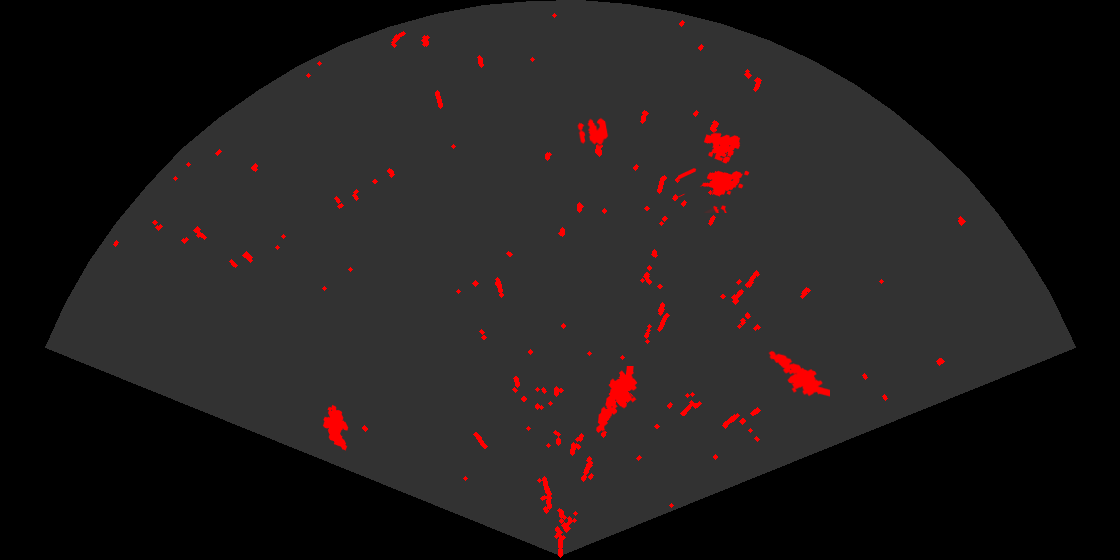AUV: (321, 403, 350, 452)
ball: (576, 116, 610, 147)
cage: (678, 131, 751, 213)
frogman: (767, 349, 830, 398), (595, 366, 639, 435)
